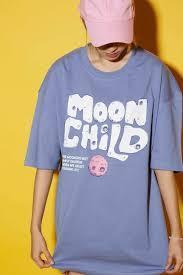Tshirt: (22, 45, 183, 275)
